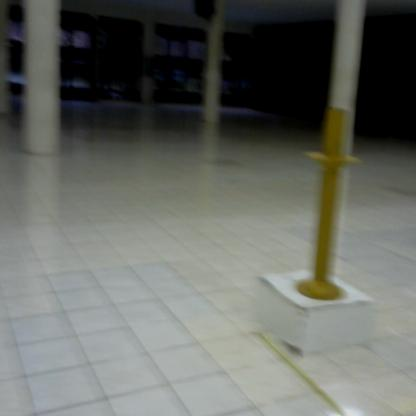pole: (293, 106, 366, 305)
